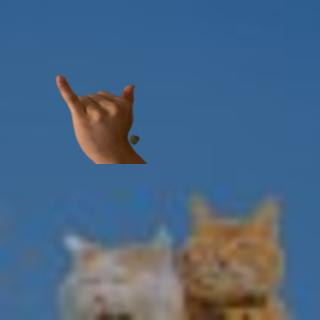HAVE: (49, 67, 143, 156)
